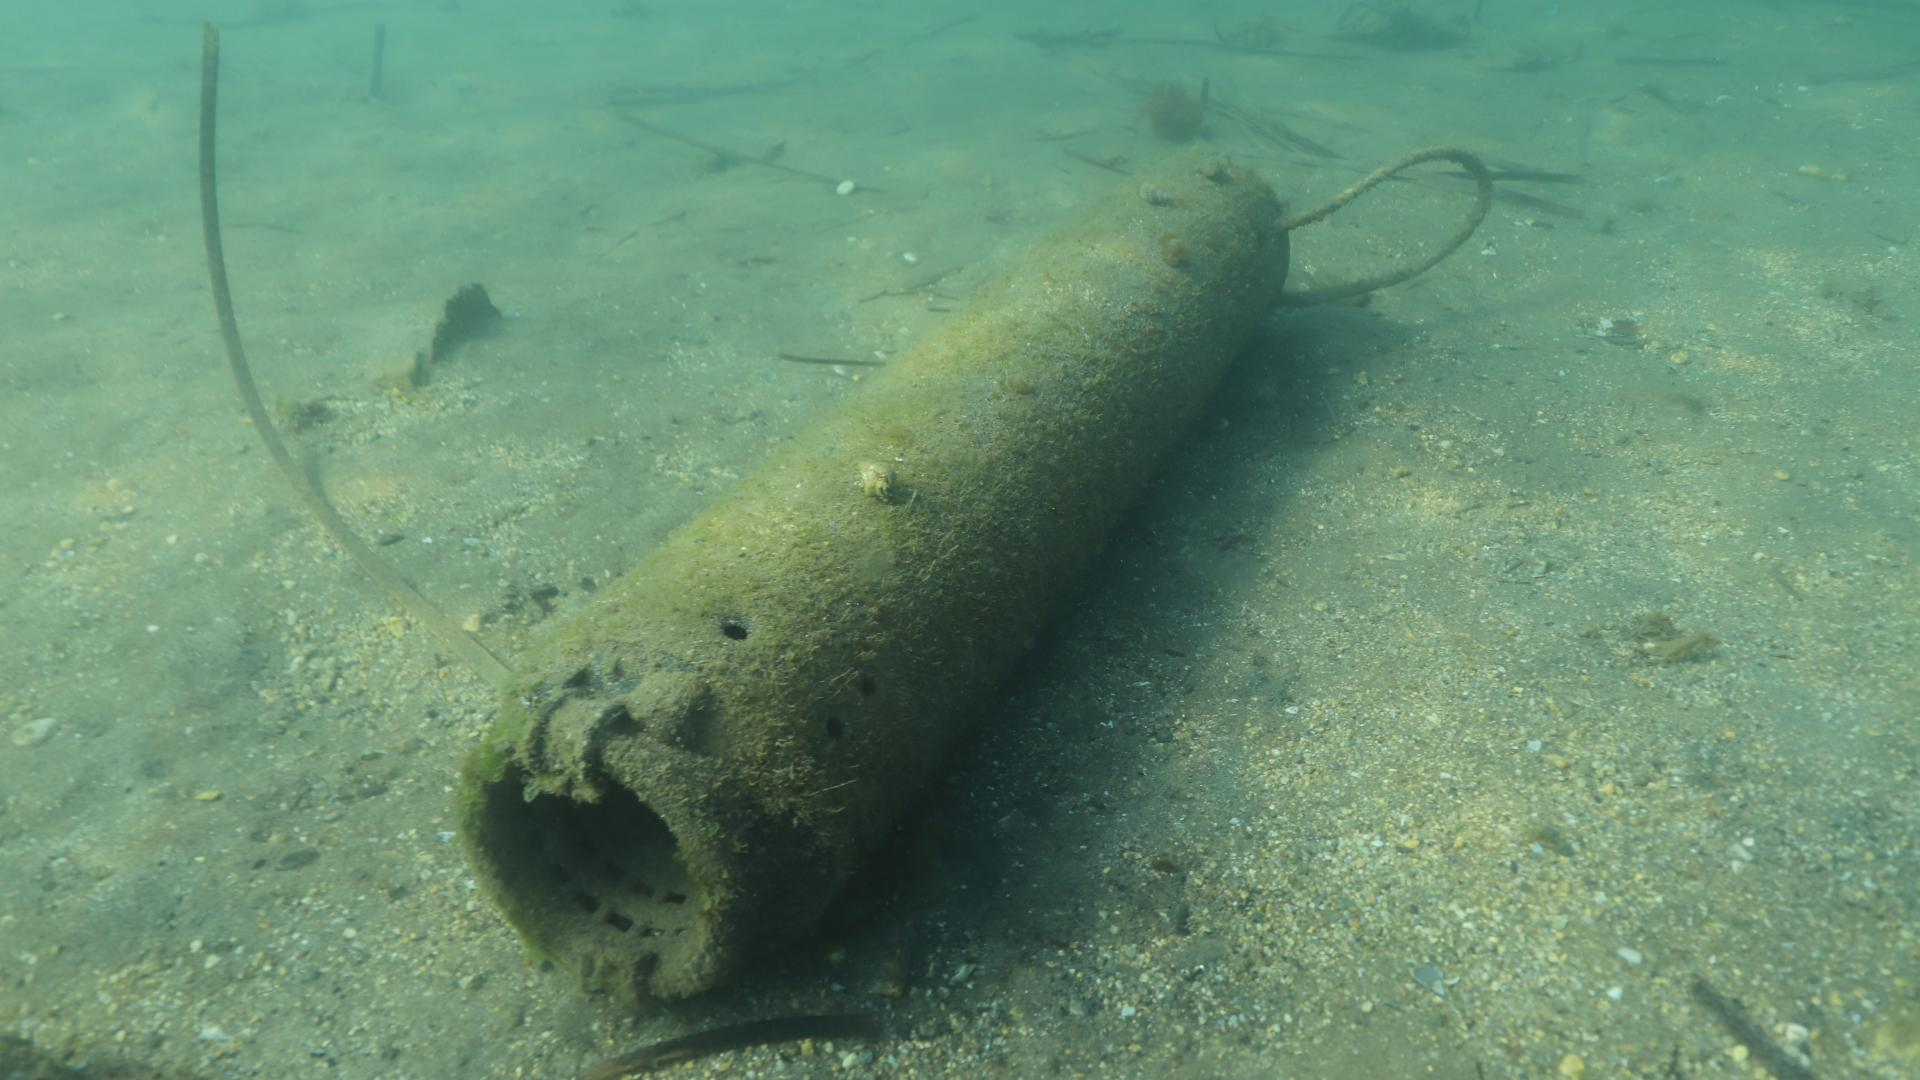eel fish trap: (460, 142, 1294, 1010)
rope: (1279, 145, 1490, 307)
